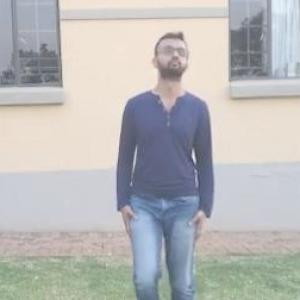follow: (112, 17, 224, 298)
